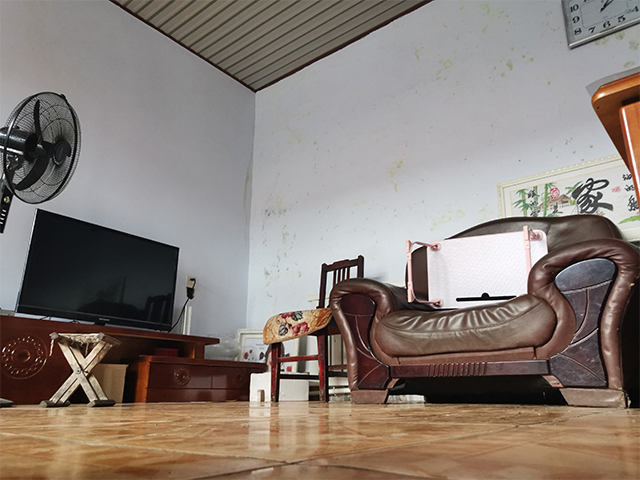cabinet: (1, 312, 268, 404)
sofa: (328, 213, 640, 409)
stool: (268, 254, 366, 404), (38, 331, 122, 410)
